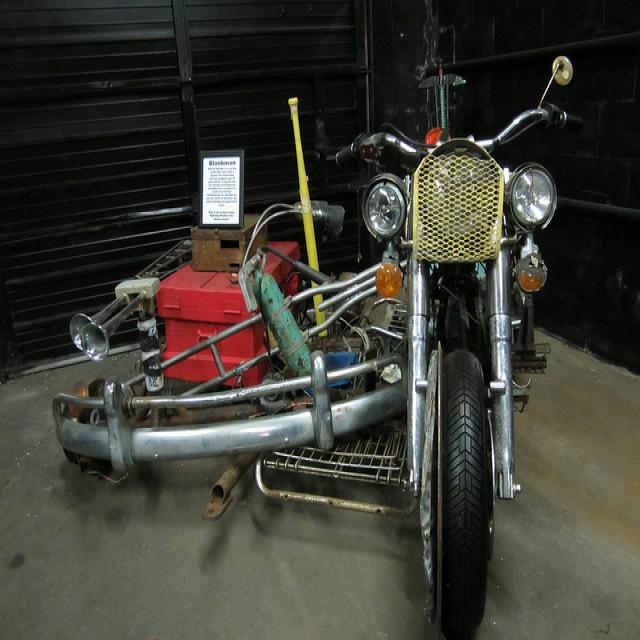motor: (318, 53, 589, 624)
